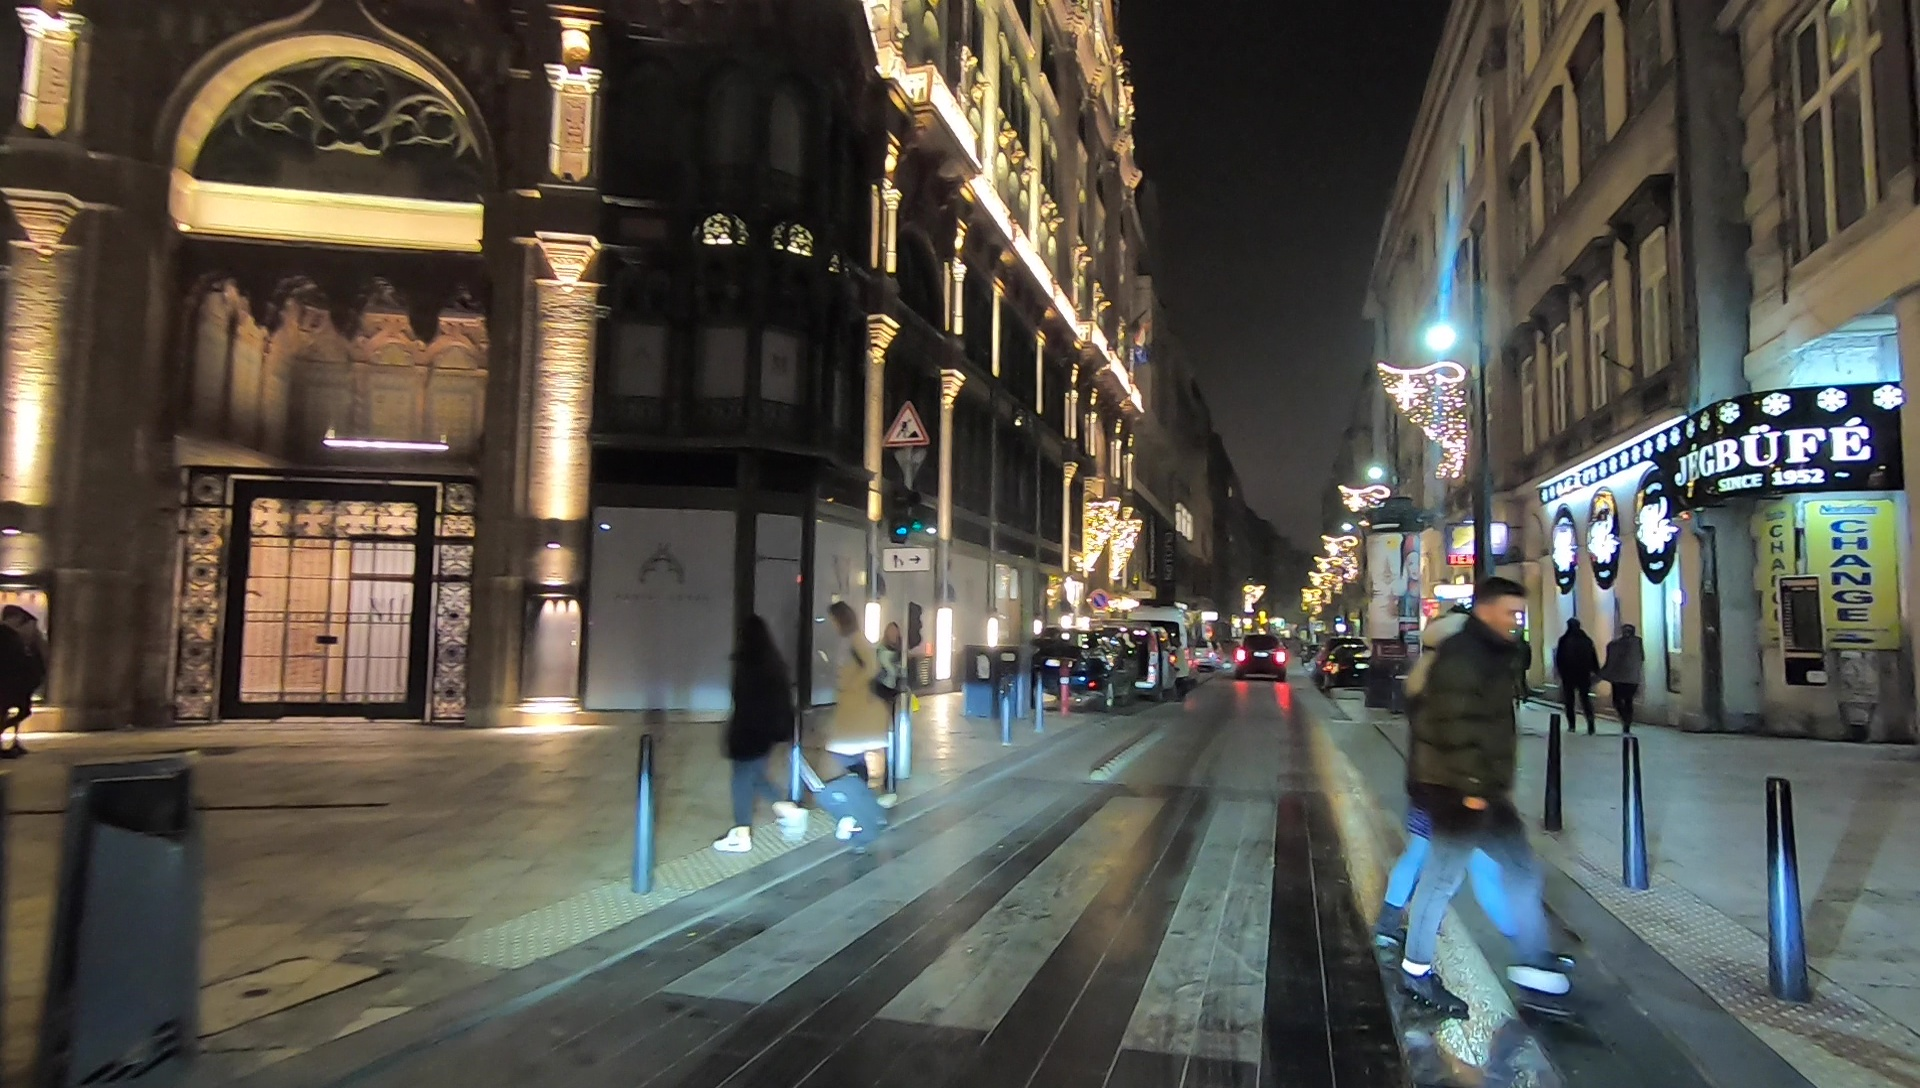person: (1399, 578, 1582, 1026), (722, 610, 812, 857), (814, 603, 899, 853), (1, 604, 49, 755), (1606, 620, 1651, 735), (1557, 614, 1600, 735)
